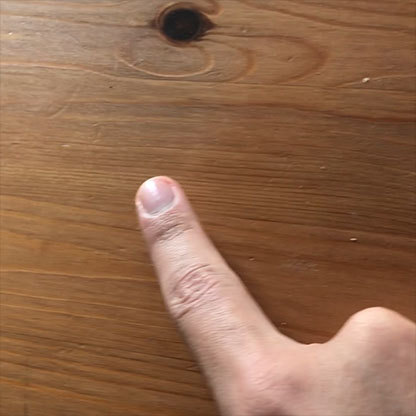fingertip: (124, 173, 199, 230)
